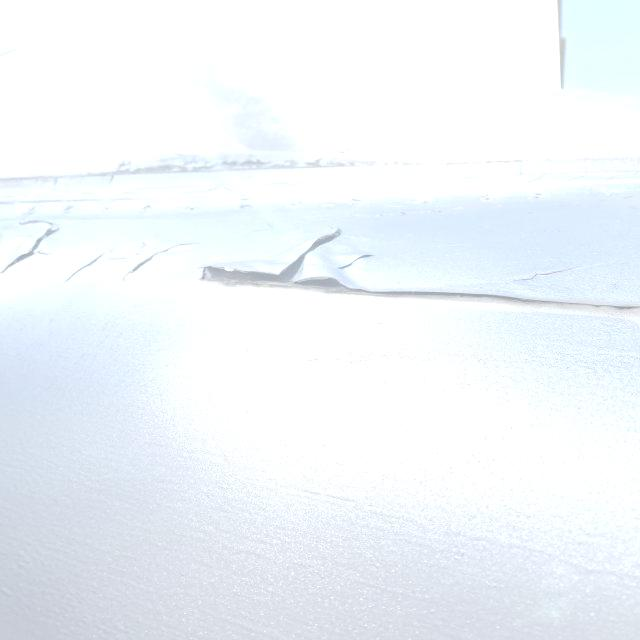crack: (64, 236, 190, 285), (516, 265, 570, 288), (340, 252, 386, 270)
